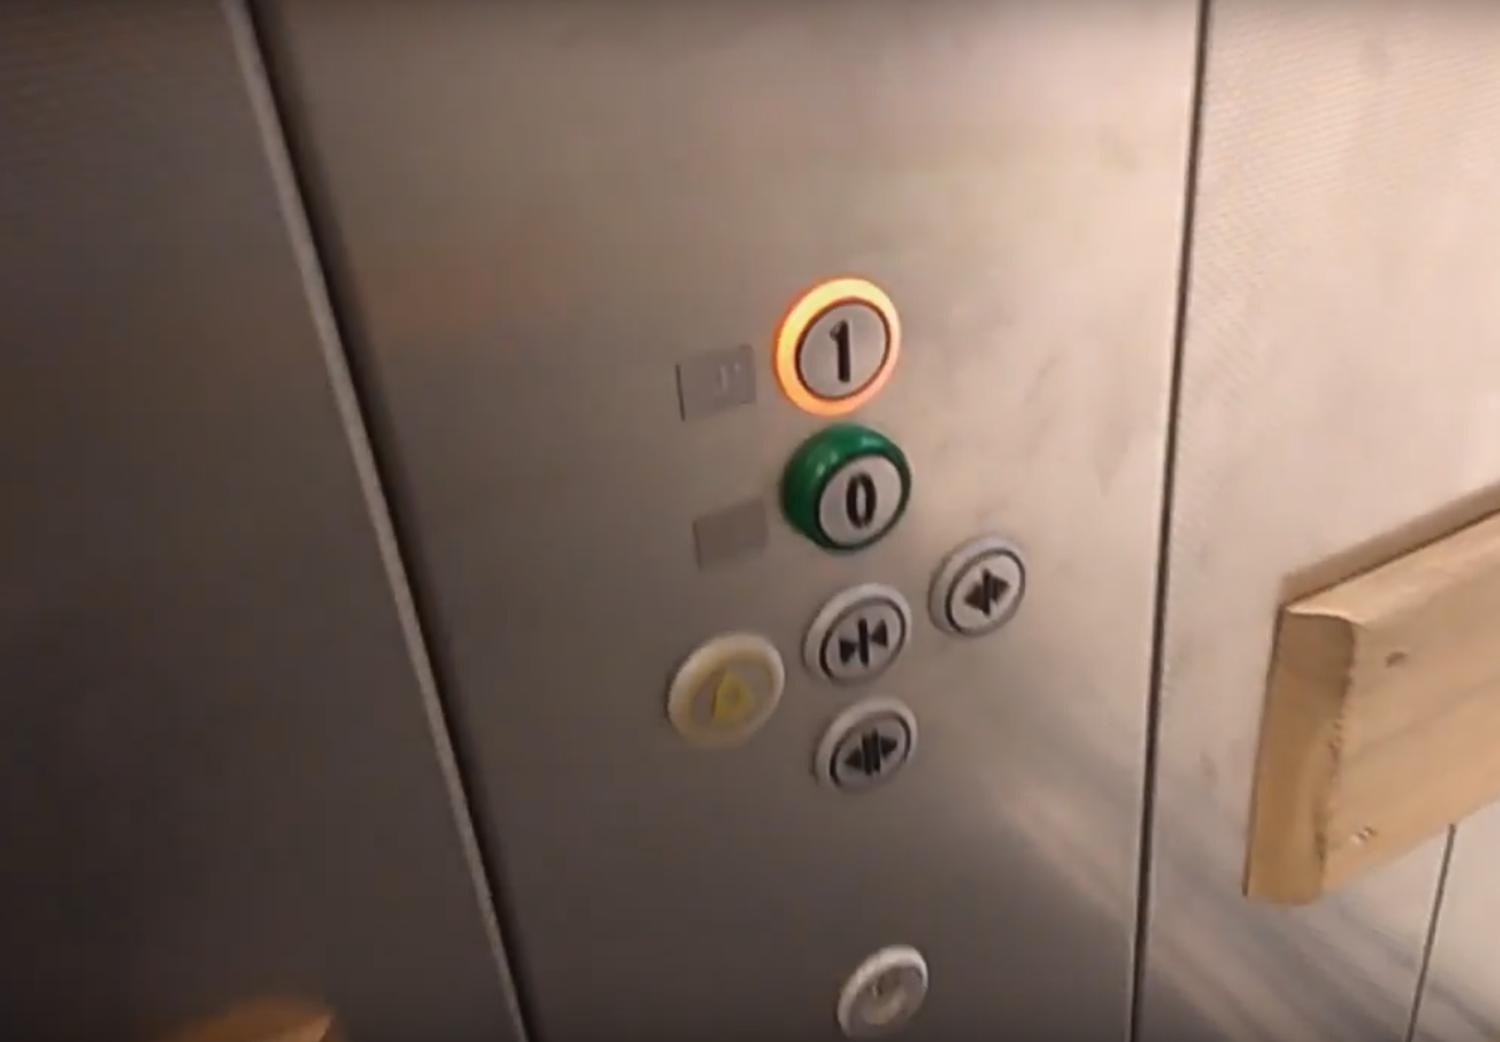0: (776, 422, 914, 554)
1: (774, 275, 904, 420)
alarm: (663, 630, 789, 754)
close: (800, 581, 914, 689)
keyhole: (835, 941, 932, 1042)
open: (928, 529, 1036, 645), (809, 698, 922, 796)
